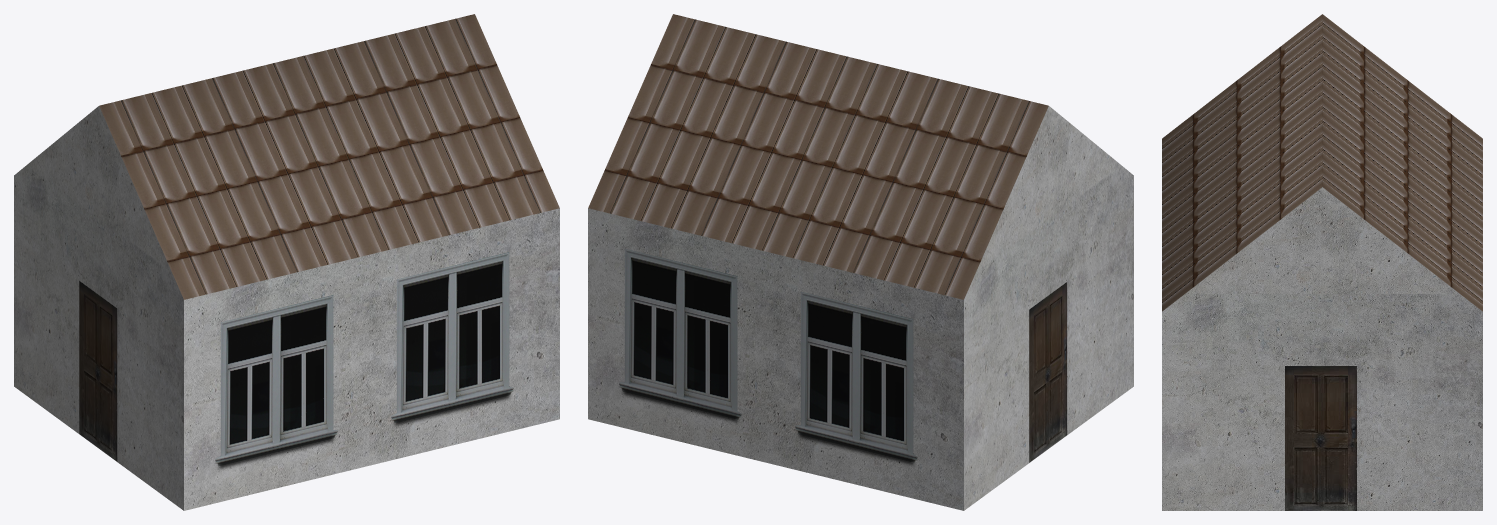
Rendered from house_02.FBX.
3 renders of one model, left to right at view 1: azimuth 30°, elevation 25°; view 2: azimuth 150°, elevation 25°; view 3: azimuth 270°, elevation 25°, orthographic. The views are drawn at different scales.
Parts seen in each view (by area): view 1: Box001; view 2: Box001; view 3: Box001.
Boxes of the visible parts, x1,y1,x2,y2 form: Box001: [14, 14, 559, 510]; Box001: [588, 14, 1133, 510]; Box001: [1162, 14, 1482, 510].
Bounding box in the file's own units: 106 × 92.69 × 83.25.
